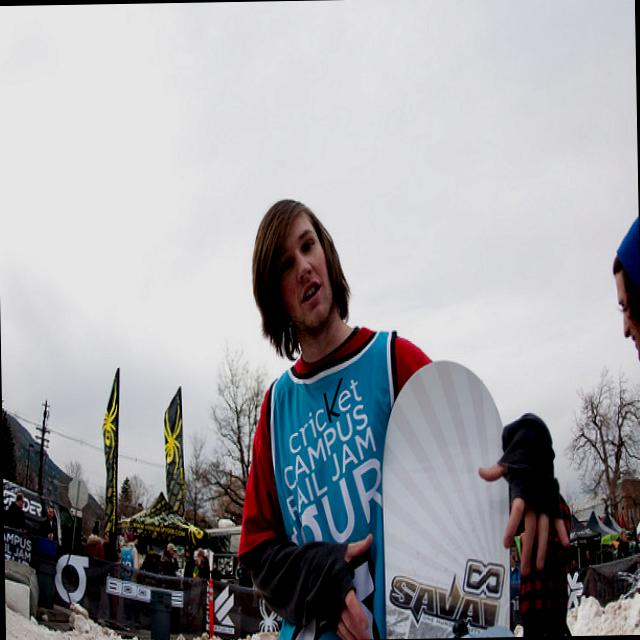Vehicle: (3, 468, 73, 554), (204, 524, 243, 555)
